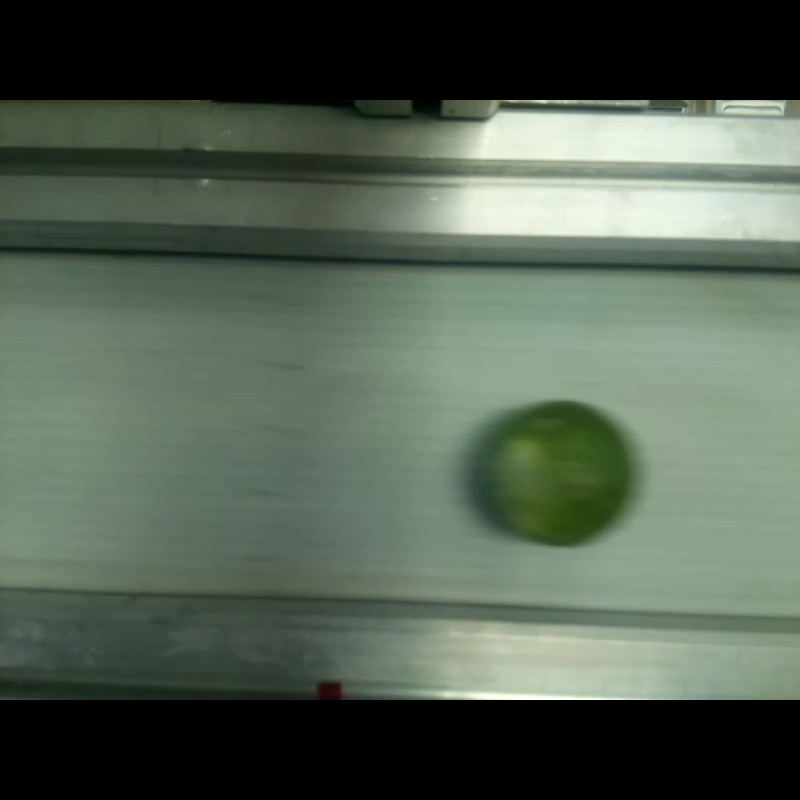lime: (481, 403, 634, 544)
